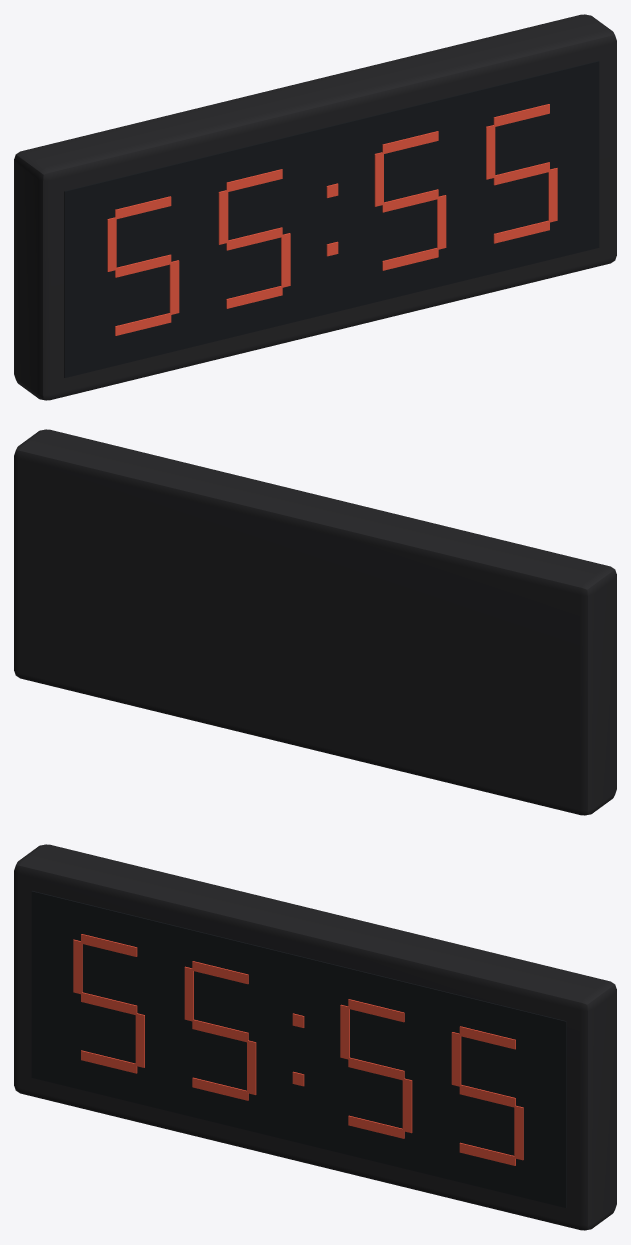
File: industrial.workshop.trinket_clock_digital.glb
3 views of the same model, one above another, from view 1: azimuth 30°, elevation 25°; view 2: azimuth 150°, elevation 25°; view 3: azimuth 330°, elevation 25° (orthographic).
Visible parts, largest first — view 1: main__paint_122, main__paint_222, main__light_f64; view 2: main__paint_222; view 3: main__paint_122, main__paint_222, main__light_f64.
Boxes of the visible parts, box(x1,y1,x2,y2) form: main__paint_122: box(64, 61, 599, 377); main__paint_222: box(14, 14, 616, 400); main__light_f64: box(107, 104, 557, 335); main__paint_222: box(14, 429, 616, 815); main__paint_122: box(31, 891, 566, 1207); main__paint_222: box(14, 844, 616, 1230); main__light_f64: box(73, 934, 523, 1165).
Size of the model in its own units: 0.52 by 0.2 by 0.052.
